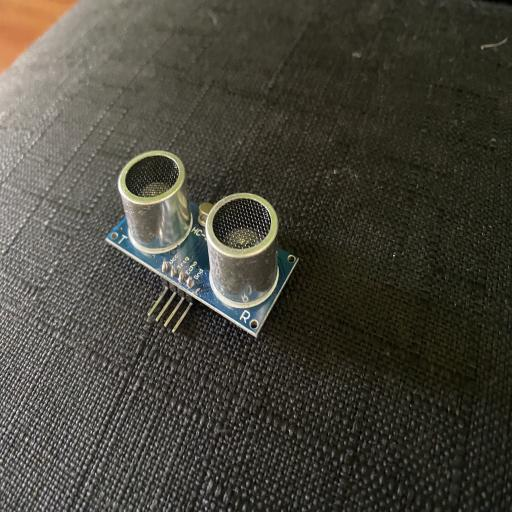Ultrasonic Sensor: (105, 149, 299, 339)
